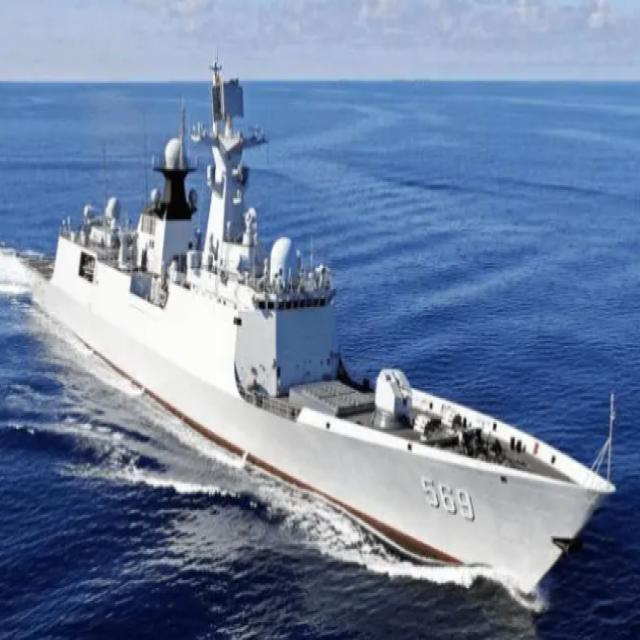navalvessels: (35, 44, 607, 582)
